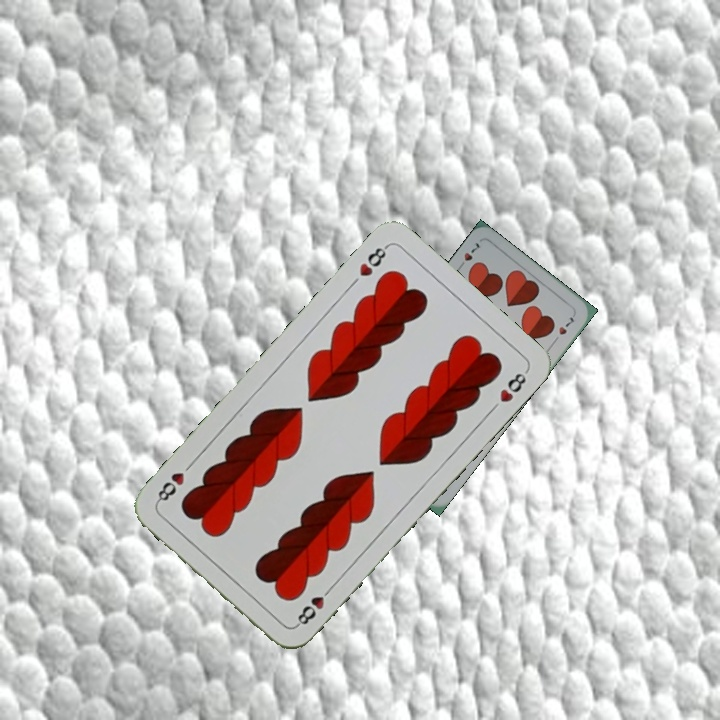H7: (454, 239, 482, 273)
H8: (291, 581, 336, 629), (355, 241, 391, 280)
